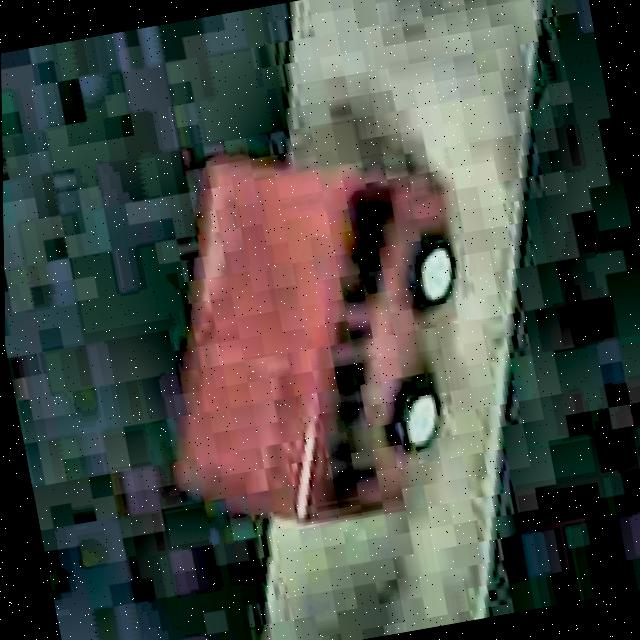bus: (117, 119, 512, 552)
